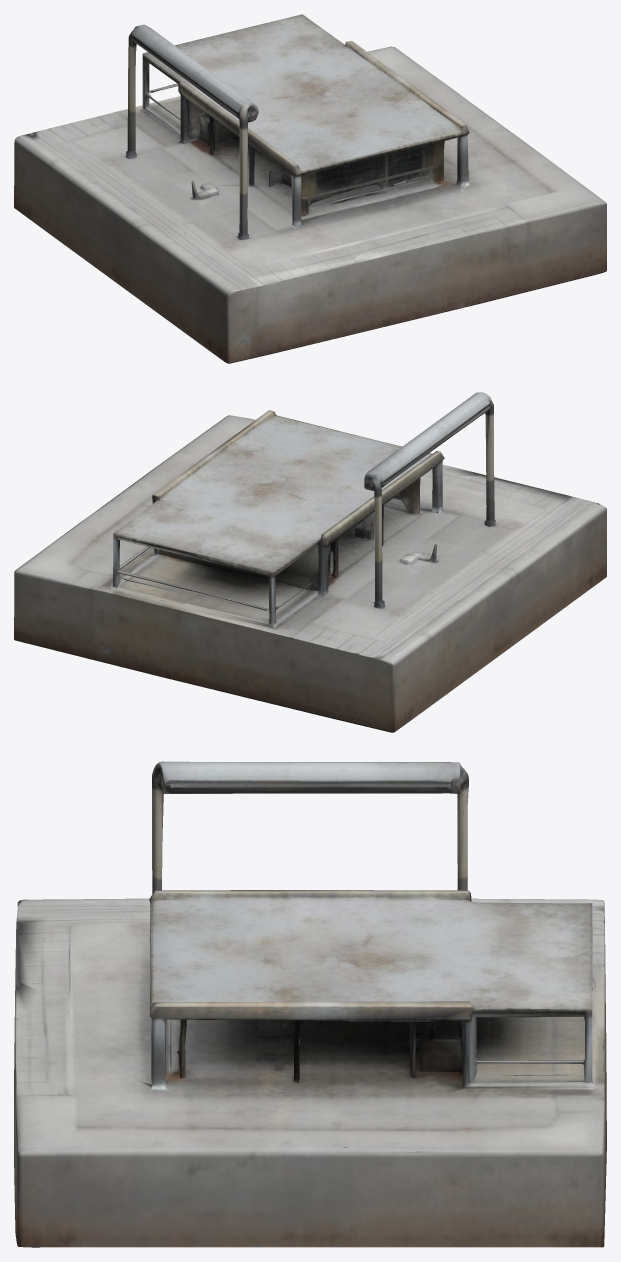
Rendered from gas_station.glb.
3 renders of one model, top to bottom at view 1: azimuth 30°, elevation 25°; view 2: azimuth 150°, elevation 25°; view 3: azimuth 270°, elevation 25°, orthographic. The views are drawn at different scales.
Parts seen in each view (by area): view 1: gas_station; view 2: gas_station; view 3: gas_station.
Boxes of the visible parts, x1,y1,x2,y2 form: gas_station: [14, 14, 606, 363]; gas_station: [14, 392, 606, 732]; gas_station: [14, 761, 606, 1247].
Bounding box in the file's own units: 1 × 0.5115 × 0.9841.
1 material, 1 textured.
